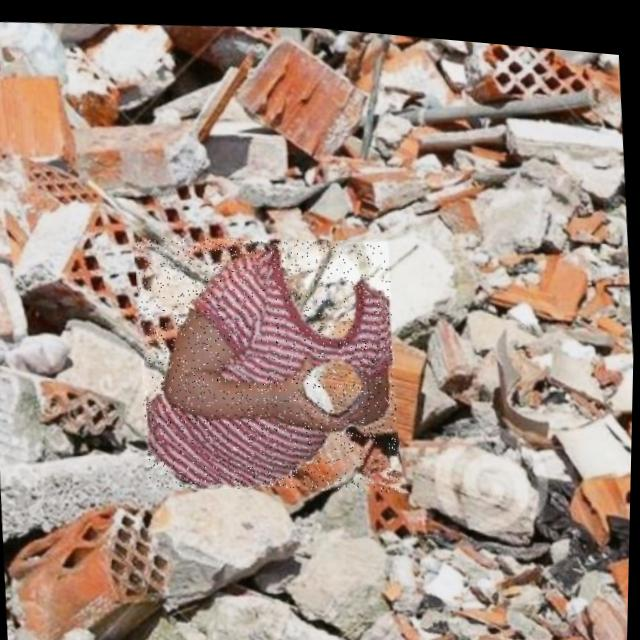Person in Rubble: (132, 216, 406, 501)
